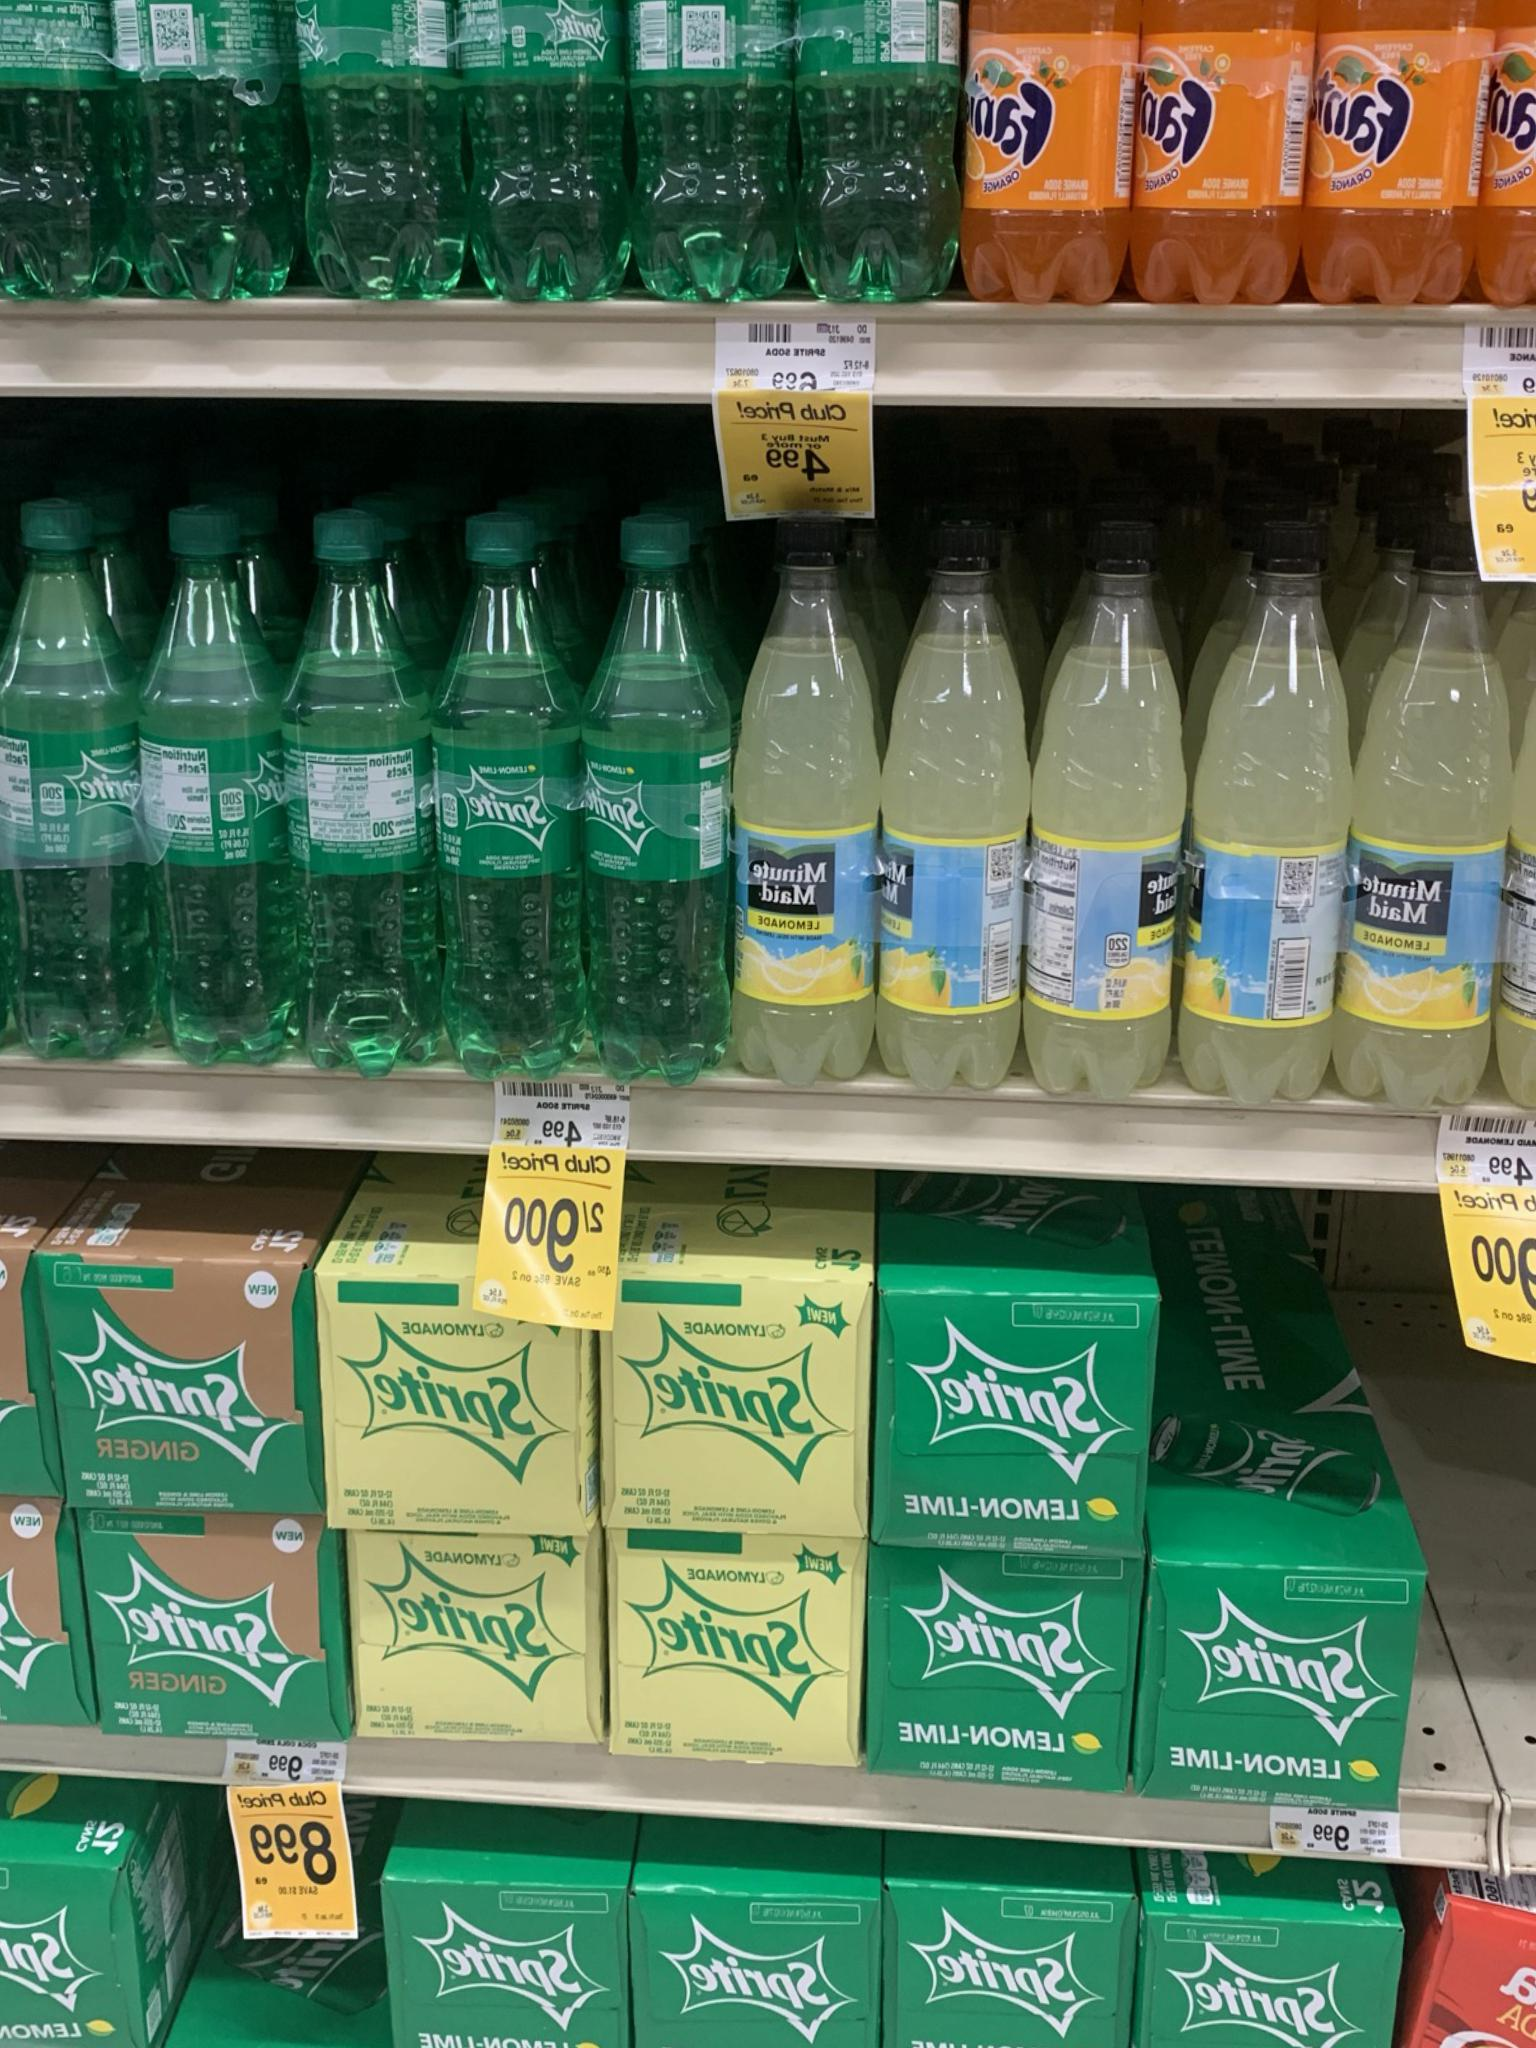soda: (139, 518, 302, 1068), (570, 502, 716, 1079), (45, 1255, 323, 1514), (605, 1271, 865, 1538), (440, 519, 568, 1064), (328, 1272, 586, 1532), (860, 1548, 1134, 1790), (879, 1284, 1120, 1559), (298, 535, 419, 1071), (1150, 1558, 1397, 1811), (18, 518, 127, 1072), (602, 1540, 866, 1766), (344, 1530, 597, 1758), (77, 1532, 342, 1738)
